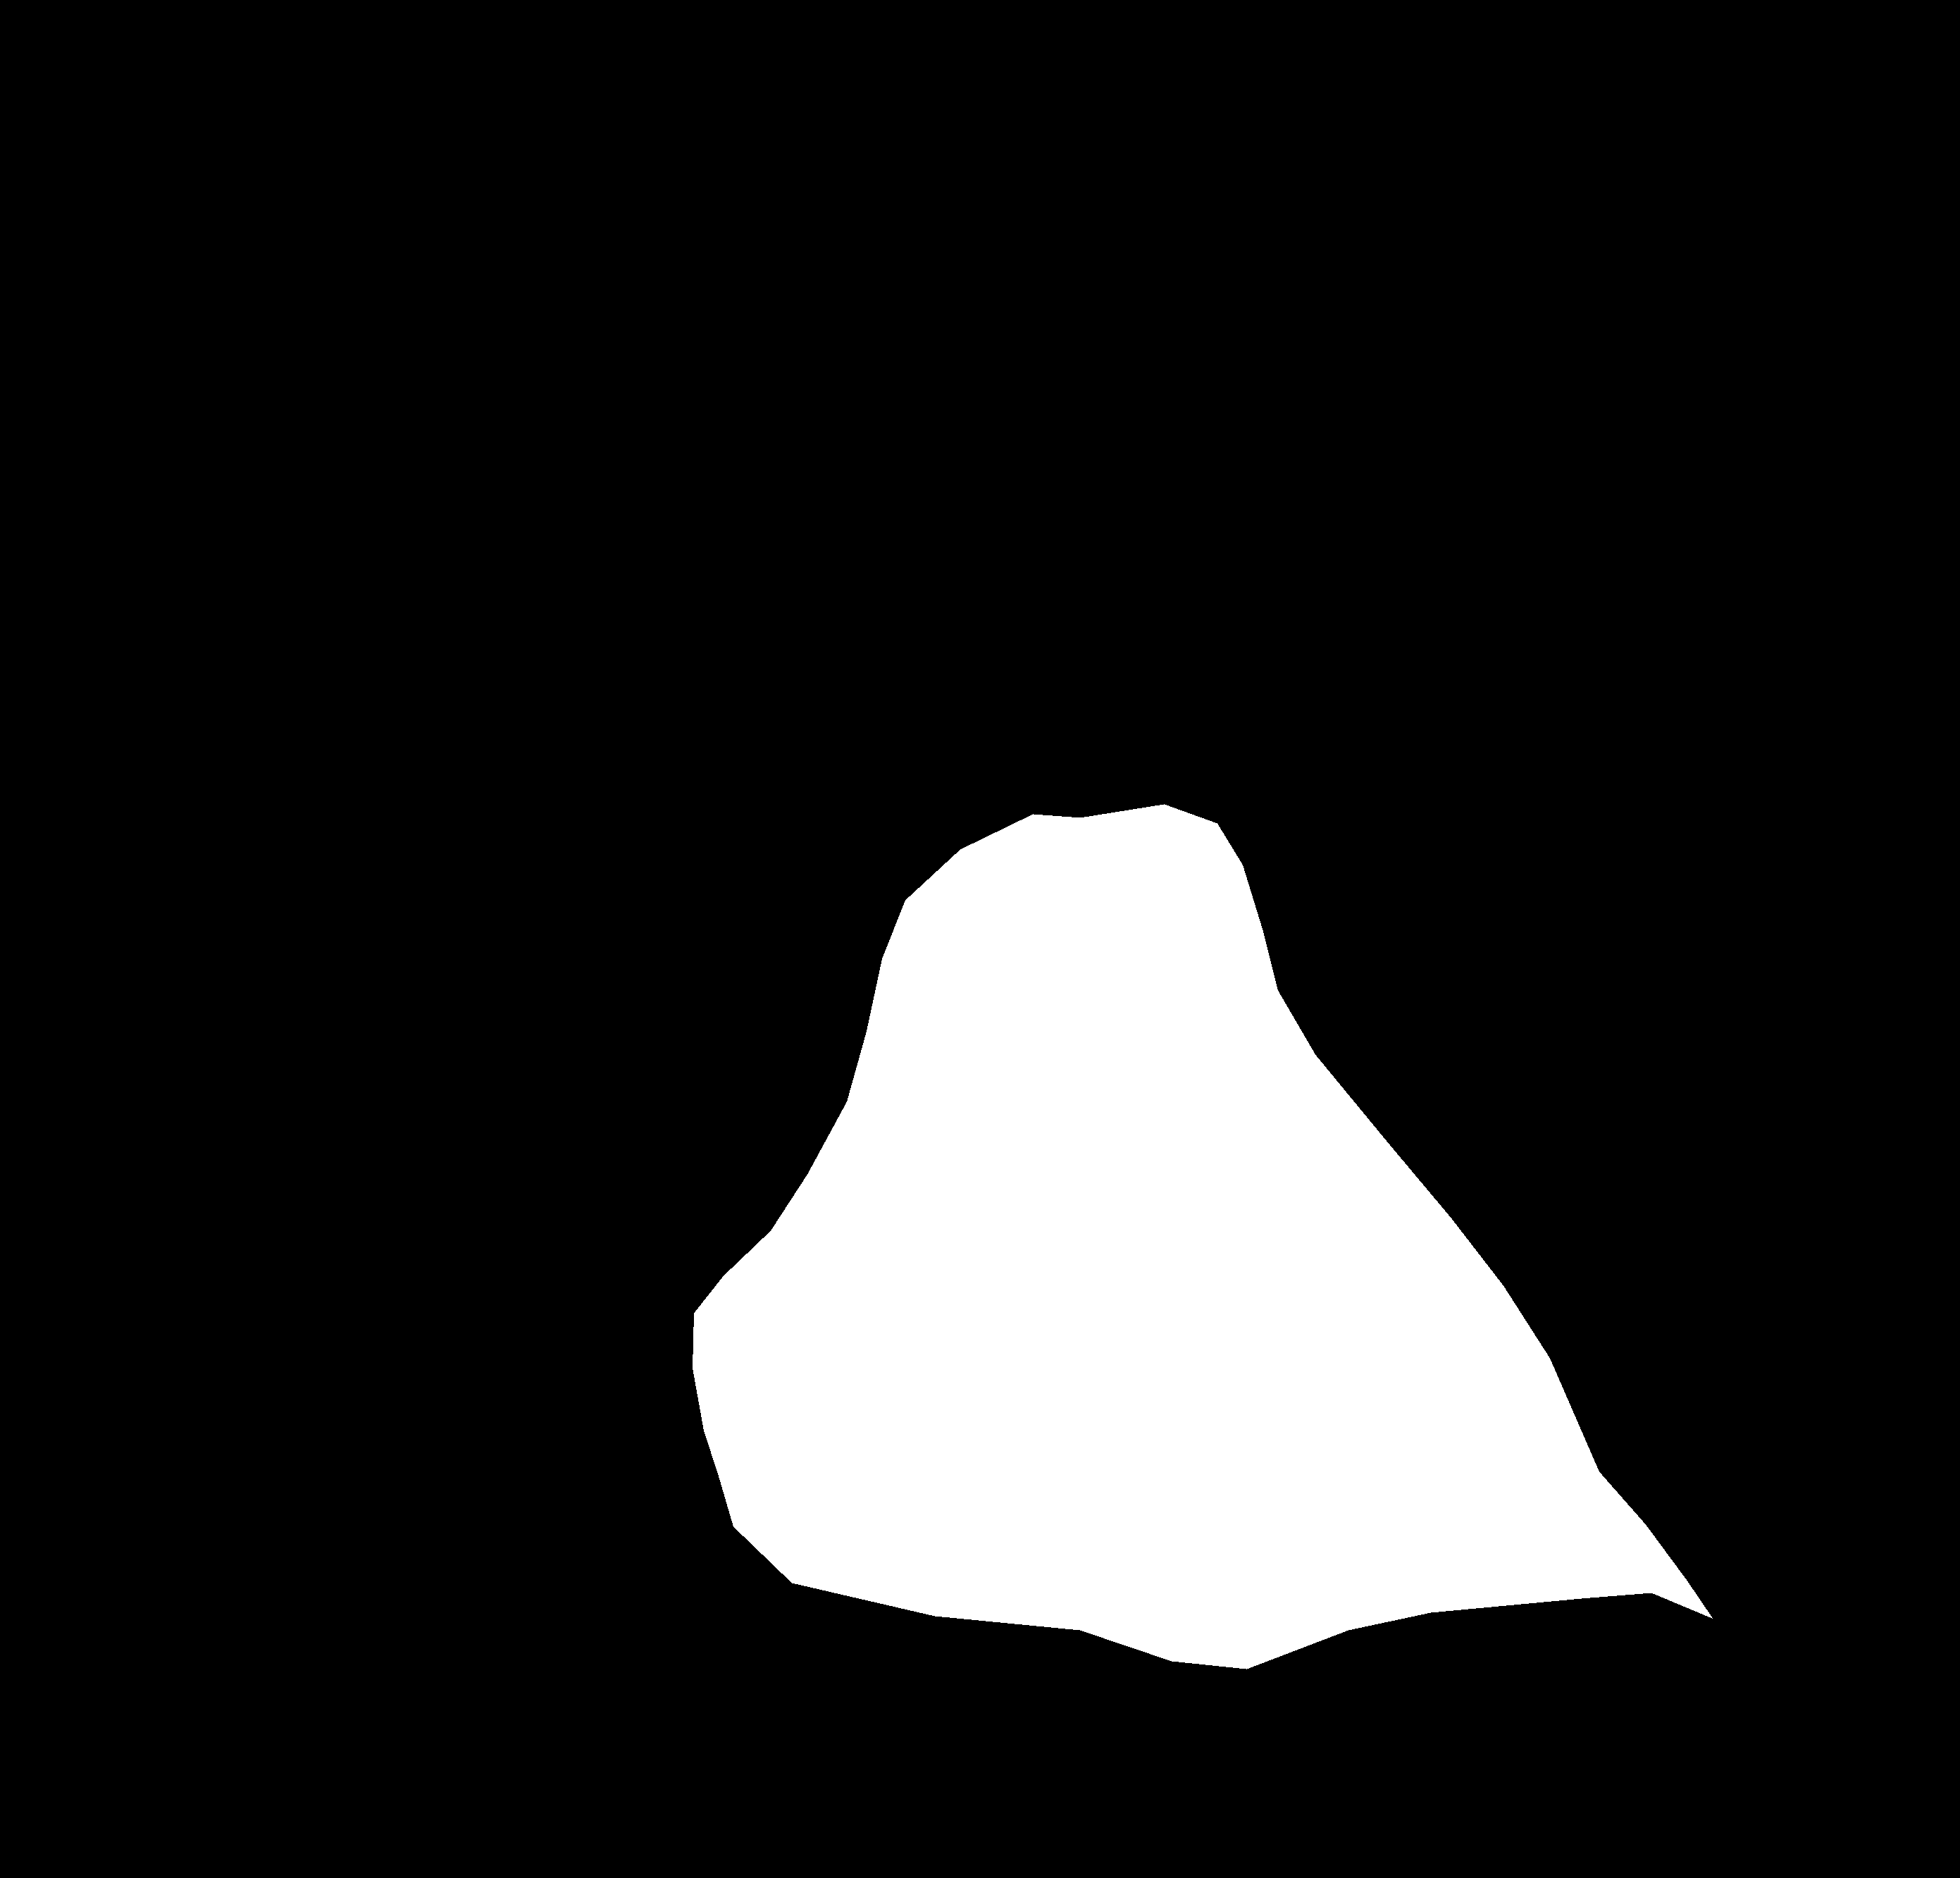heart: (693, 803, 1712, 1668)
left_lung: (189, 187, 955, 1621)
right_lung: (1160, 205, 1790, 1680)
